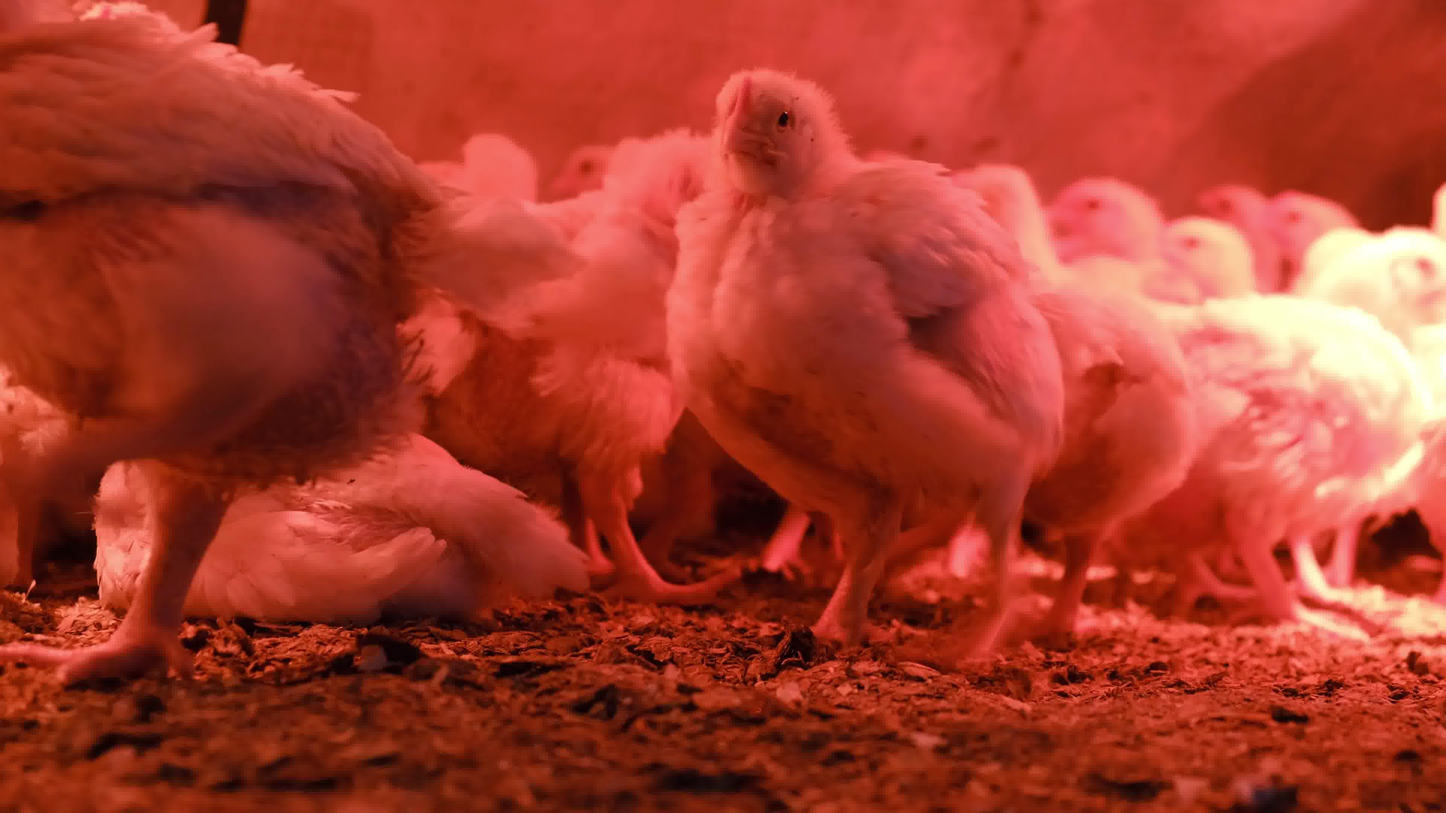AbNormal: (49, 314, 586, 719)
Normal: (0, 0, 441, 662), (657, 45, 1101, 664), (452, 132, 770, 598), (949, 149, 1228, 630), (1181, 241, 1446, 644), (1054, 137, 1275, 329), (1207, 162, 1416, 256)
